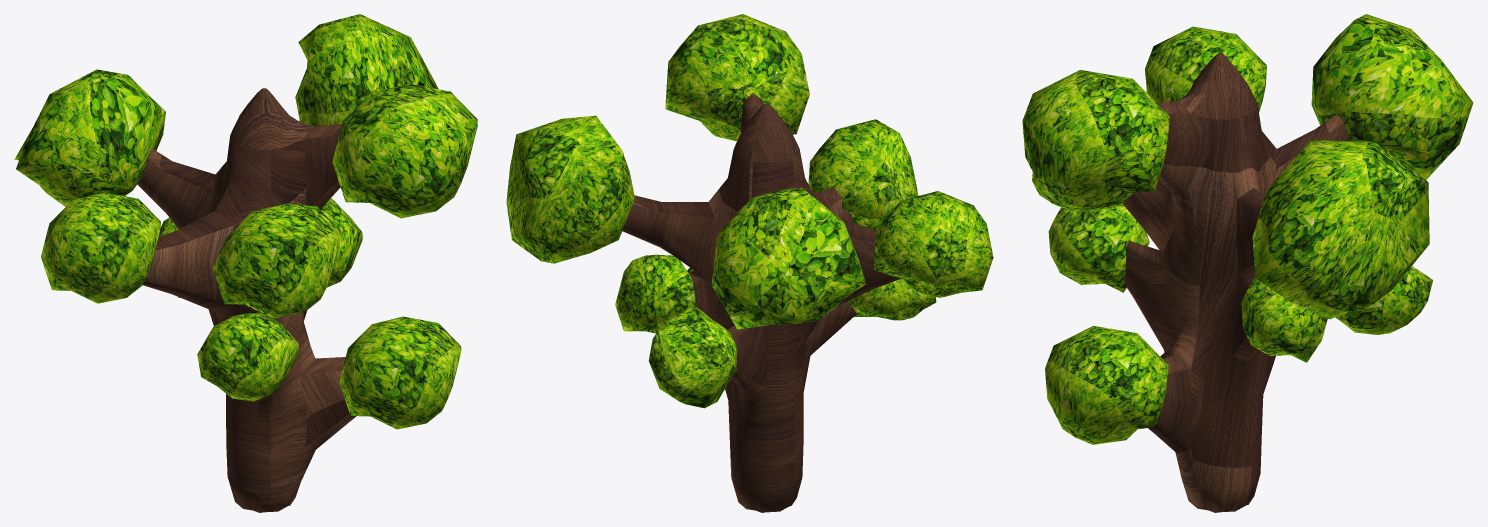
Rendered from SimpleTreeBig.fbx.
The picture shows the model from 3 angles, left to right: view 1: azimuth 30°, elevation 25°; view 2: azimuth 150°, elevation 25°; view 3: azimuth 270°, elevation 25°; orthographic projection. The views are drawn at different scales.
Parts seen in each view (by area): view 1: Cylinder; view 2: Cylinder; view 3: Cylinder.
Part boxes in pixels (x1=…): Cylinder: x1=14, y1=14, x2=477, y2=512; Cylinder: x1=506, y1=14, x2=993, y2=512; Cylinder: x1=1022, y1=14, x2=1473, y2=512.
Bounding box in the file's own units: 608 × 585 × 497.
